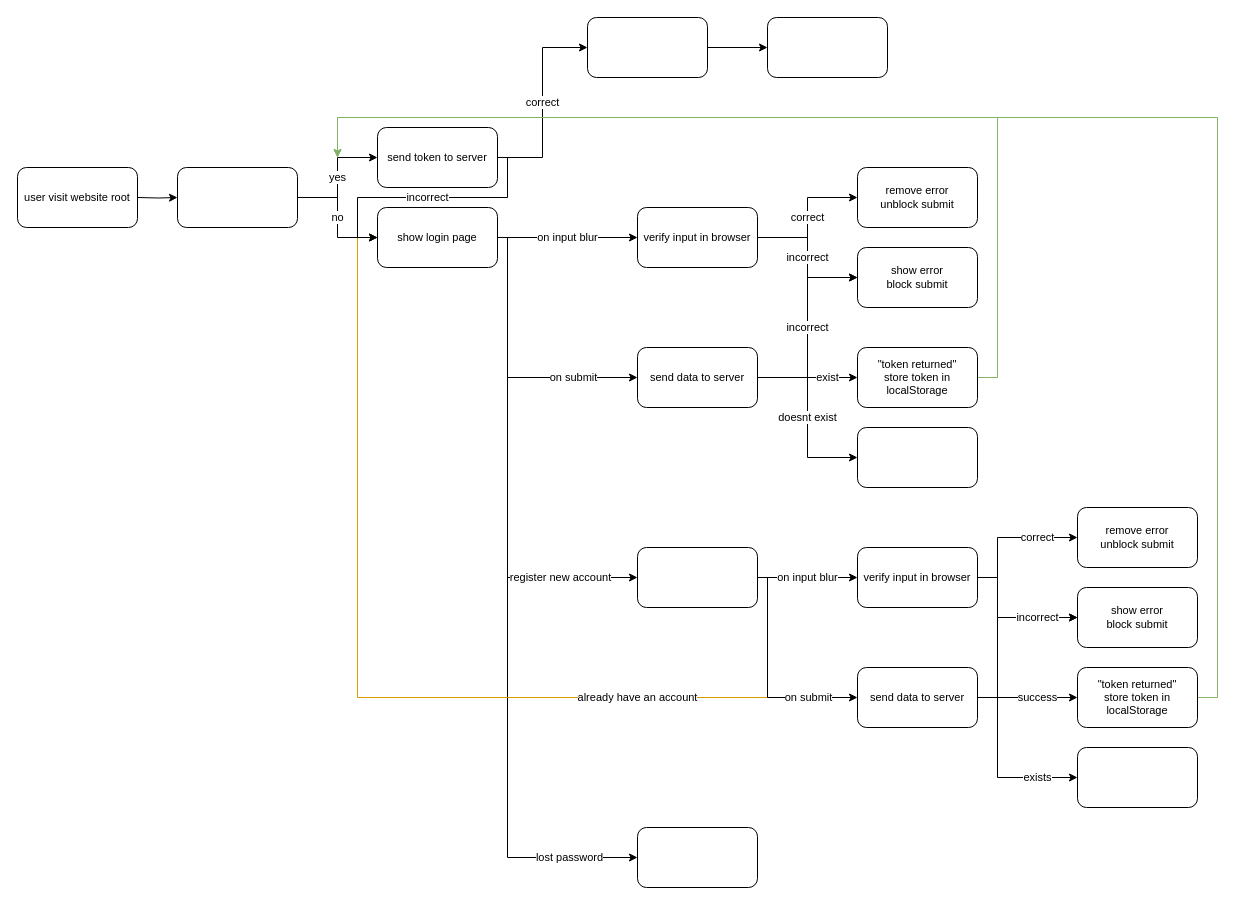
Image size: 1243x905. Some labels were removed from this diagram. Here are the shapes that lost their labels. From the top down, the centre of each, then its label:
(x=647, y=47): request user info
(x=237, y=197): check if login token is stored
(x=917, y=457): show account doesn't exit error
(x=697, y=577): show registration page
(x=1137, y=777): show 'user exists' error
(x=697, y=857): contact admin (for now)
